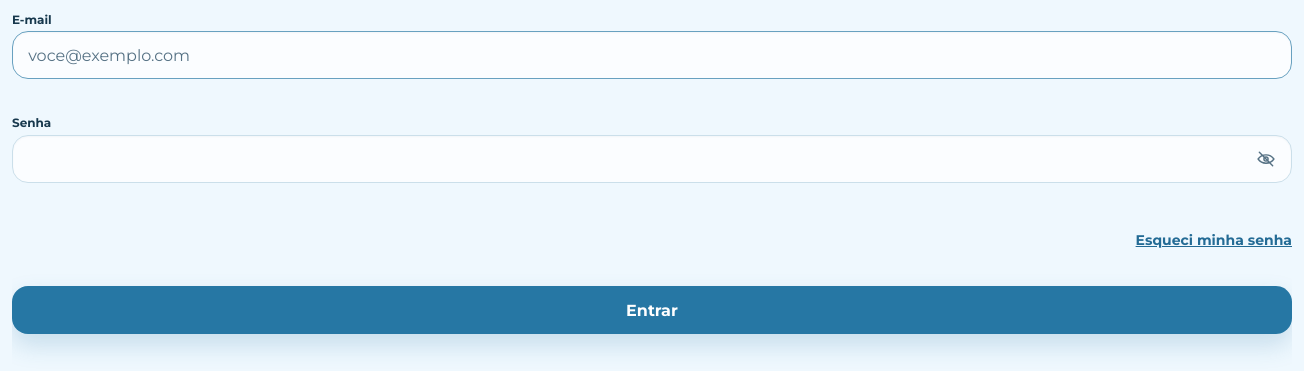
Test: associa erro de campo retornado pelo backend sem mostrar a mensagem bruta
Type " user@example.com " into the field labelled "E-mail" at (652, 56), box [12,32,1292,80]
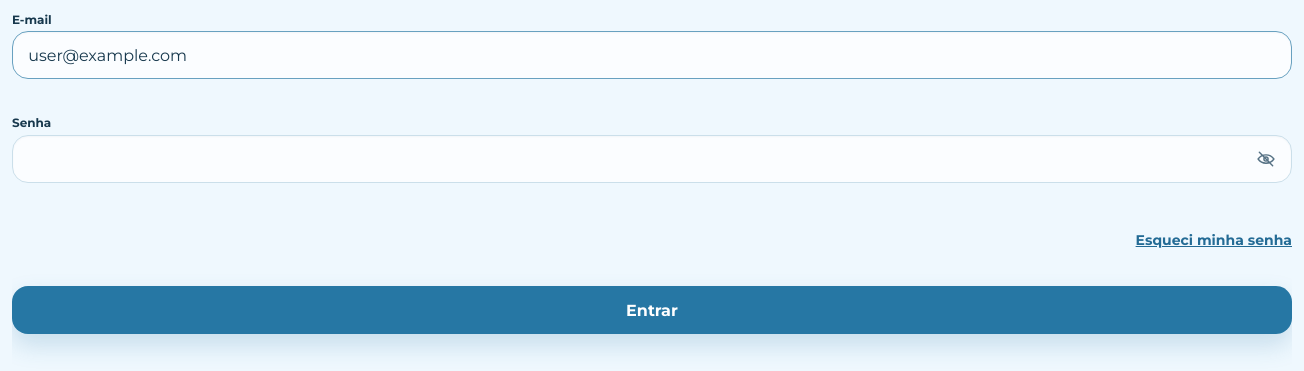
Type "senha-segura" into the password field labelled "Senha" at (652, 159), box [12,135,1292,183]
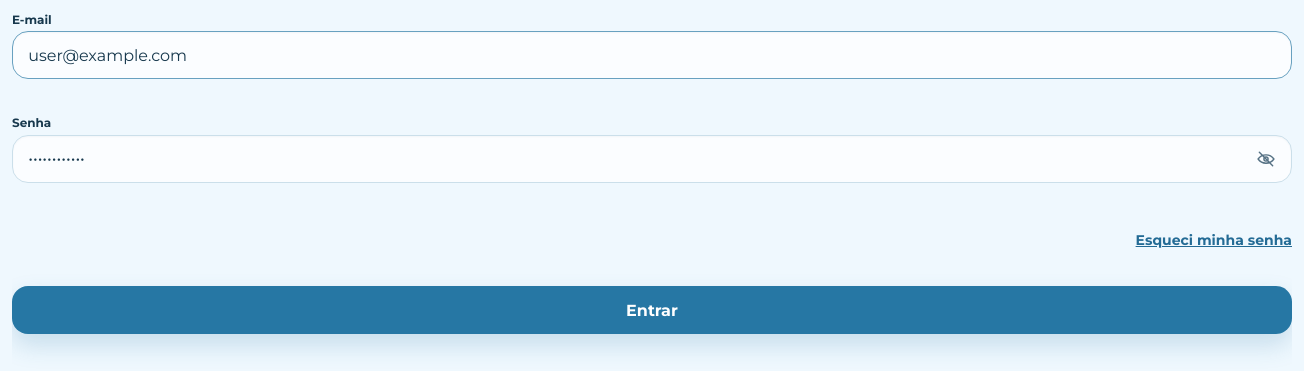
Click the button "Entrar" at (652, 310), box [12,286,1292,334]
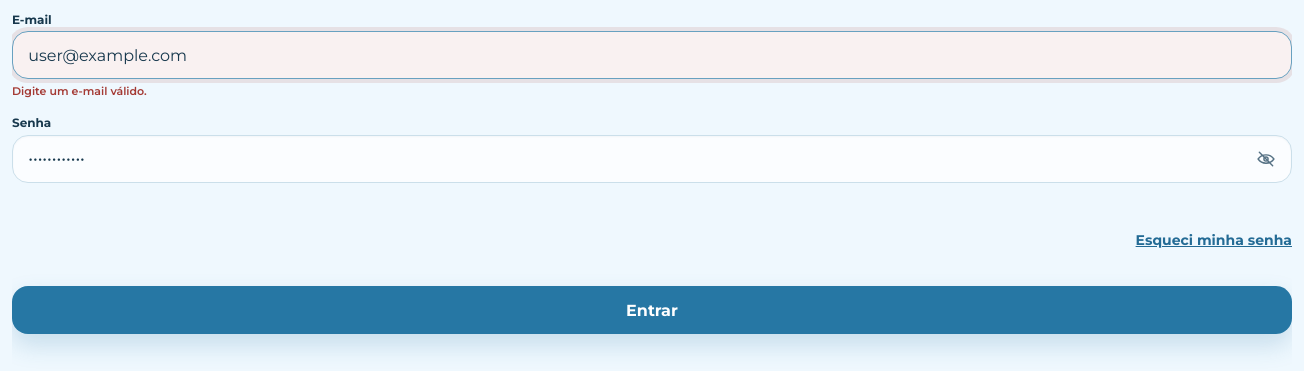
Result: the text "Digite um e-mail válido." is shown at [12,84,147,98]
